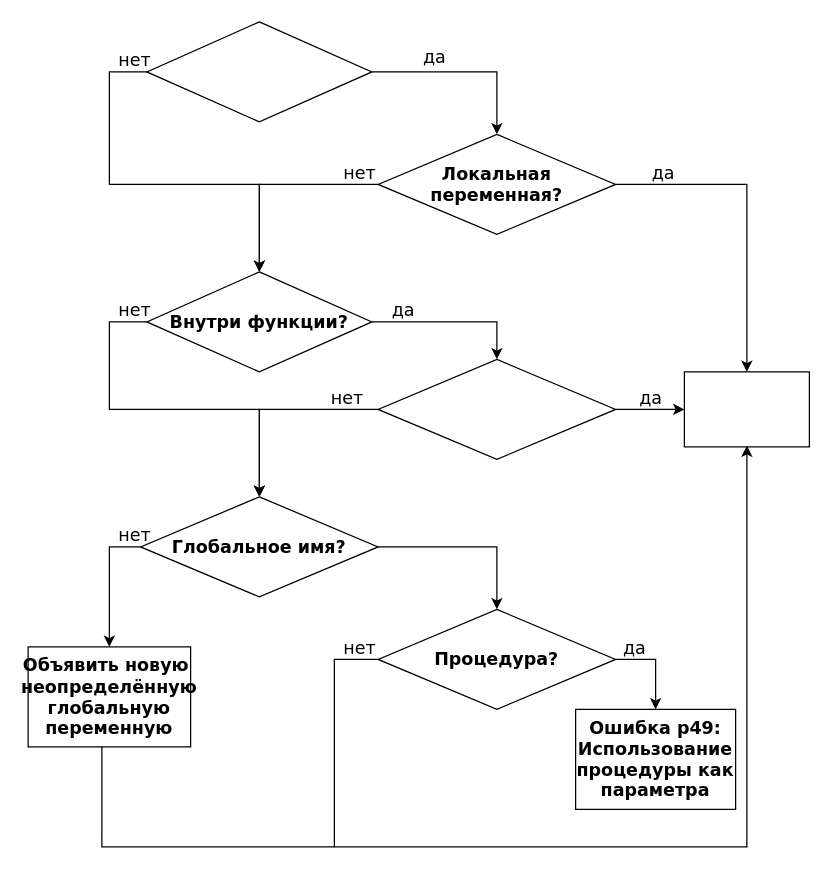
Image size: 831x879. Some labels were removed from this diagram. The shapes that lost their labels are listed below. From the top down, each one's centre as x and y in pixels, then its label:
point 259,71: Внутри тела let?
point 496,408: Аргумент функции?
point 746,409: OK
